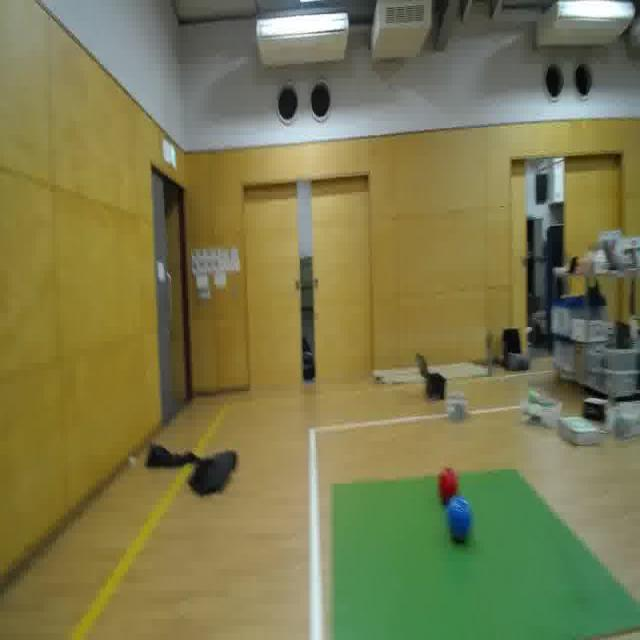blue_ball: (448, 496, 473, 544)
red_ball: (435, 460, 459, 505)
